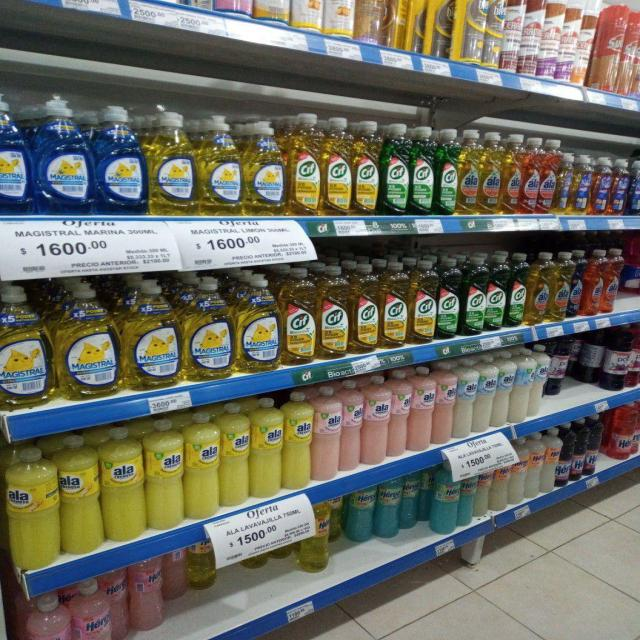ala_conc_amarillo: (458, 128, 480, 216), (480, 131, 501, 215), (502, 132, 522, 215), (528, 251, 550, 324), (550, 250, 569, 322)
ala_conc_azul: (569, 250, 583, 319)
ala_conc_rojo: (522, 136, 540, 215), (583, 248, 603, 316), (540, 138, 556, 214), (602, 248, 620, 314)
ala_crem_amarillo: (5, 445, 59, 571), (59, 434, 101, 554), (102, 425, 144, 542), (146, 418, 183, 531), (185, 409, 219, 520), (250, 396, 282, 500), (220, 402, 249, 508), (284, 390, 312, 490)
ala_crem_blanco: (455, 358, 475, 439), (475, 354, 495, 432), (495, 352, 512, 426)
ala_crem_rosado: (313, 384, 340, 482), (363, 374, 389, 466), (410, 366, 433, 452), (341, 379, 362, 473), (390, 369, 410, 458), (434, 362, 454, 446)
cif_conc_bot_amarilla: (287, 112, 321, 216), (282, 266, 316, 366), (318, 264, 350, 359), (323, 116, 352, 216), (353, 118, 380, 216), (351, 261, 379, 355), (380, 260, 408, 349), (409, 258, 436, 344)
cif_conc_botella_verde: (381, 122, 409, 216), (410, 125, 435, 216), (436, 127, 458, 216), (438, 256, 460, 340), (462, 254, 485, 334), (486, 251, 507, 331), (508, 252, 527, 328)
heroe: (129, 557, 165, 632), (72, 579, 112, 640), (21, 593, 71, 640), (346, 484, 374, 542), (376, 478, 400, 540)
magistral_con_amarillo: (56, 280, 120, 400), (0, 284, 52, 410), (123, 278, 180, 390), (182, 275, 233, 382), (148, 110, 196, 216), (198, 114, 241, 216), (236, 274, 279, 374), (243, 118, 286, 216)
magistral_con_azul: (34, 93, 92, 216), (95, 104, 146, 215), (0, 91, 32, 215)
zorro: (572, 154, 590, 216)
